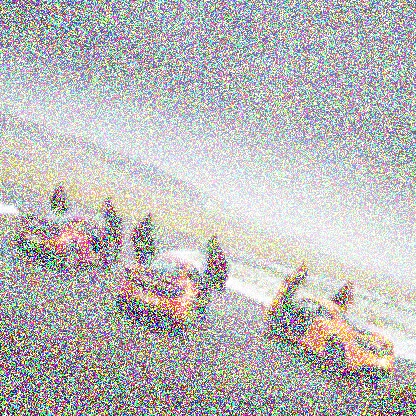Vehicle: (264, 259, 396, 386)
